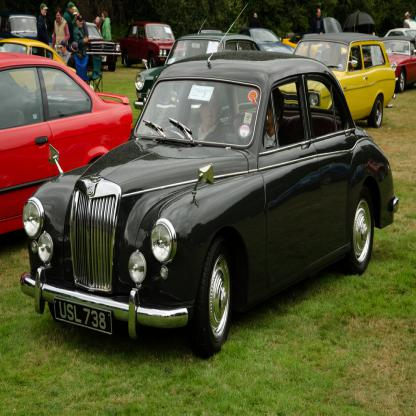Car: (0, 2, 416, 356)
